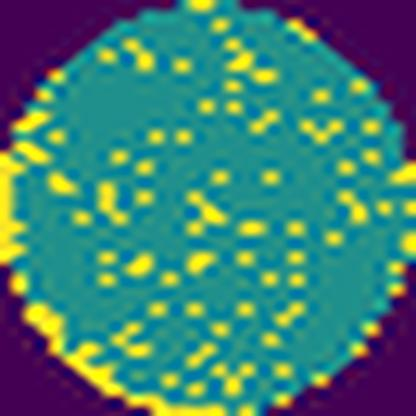Edge-Loc: (61, 335, 230, 416), (0, 144, 26, 263), (26, 294, 67, 350)
